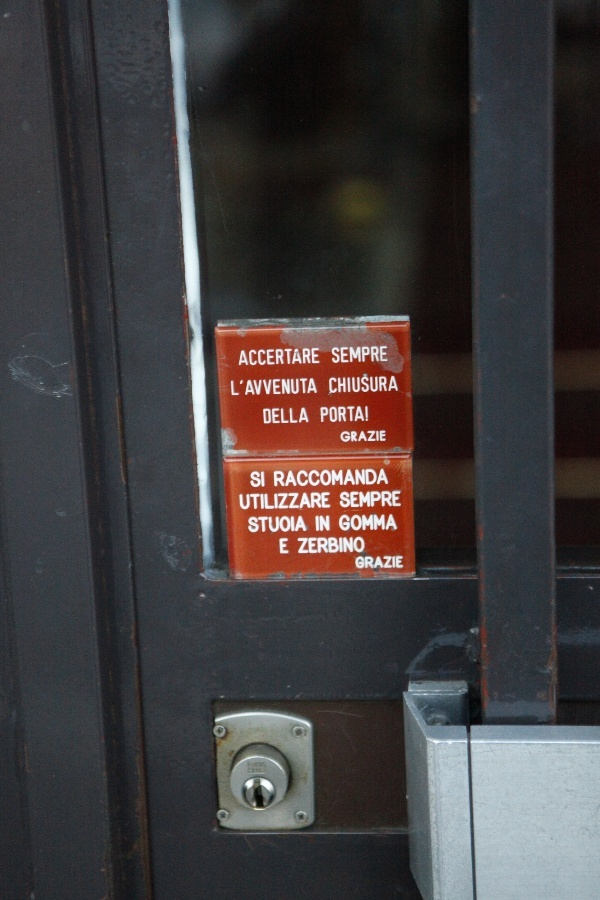text: (241, 347, 256, 367), (257, 347, 272, 367), (273, 347, 288, 367), (289, 347, 304, 367), (305, 347, 320, 367), (337, 375, 352, 395), (353, 375, 368, 395), (369, 375, 384, 395), (337, 346, 352, 365), (353, 346, 368, 365), (369, 346, 384, 365), (241, 377, 256, 396), (257, 377, 272, 396), (273, 377, 288, 396), (289, 377, 304, 396), (289, 469, 304, 488), (305, 469, 320, 488), (321, 469, 336, 488), (337, 469, 352, 488), (353, 469, 368, 488), (369, 469, 384, 488), (305, 536, 320, 555), (321, 536, 336, 555), (337, 536, 352, 555), (385, 491, 401, 508), (241, 492, 256, 510), (257, 492, 272, 510), (273, 492, 288, 510), (289, 492, 304, 510), (305, 492, 320, 510), (257, 515, 272, 533), (273, 515, 288, 533), (289, 515, 304, 533), (353, 513, 368, 531), (369, 513, 384, 531), (274, 469, 288, 488), (385, 375, 398, 395), (273, 408, 288, 425), (289, 408, 304, 425), (353, 491, 368, 508), (369, 491, 384, 508), (321, 407, 336, 423), (337, 407, 352, 423), (353, 407, 368, 423), (339, 513, 352, 531), (305, 377, 317, 396), (353, 536, 365, 555), (385, 513, 397, 531), (369, 556, 384, 570), (385, 556, 400, 570), (340, 491, 352, 508), (353, 430, 368, 443), (369, 430, 384, 443), (355, 556, 368, 570), (321, 492, 331, 510), (231, 377, 240, 396), (263, 408, 272, 425), (321, 515, 330, 532), (248, 515, 256, 533), (279, 538, 288, 554), (341, 430, 352, 443), (329, 375, 336, 395), (257, 471, 265, 488), (298, 536, 304, 555), (250, 471, 256, 488), (315, 515, 320, 532), (332, 346, 336, 365), (385, 469, 389, 488), (305, 408, 308, 425), (385, 346, 387, 365), (305, 515, 307, 533), (401, 556, 403, 570), (385, 430, 386, 443)
